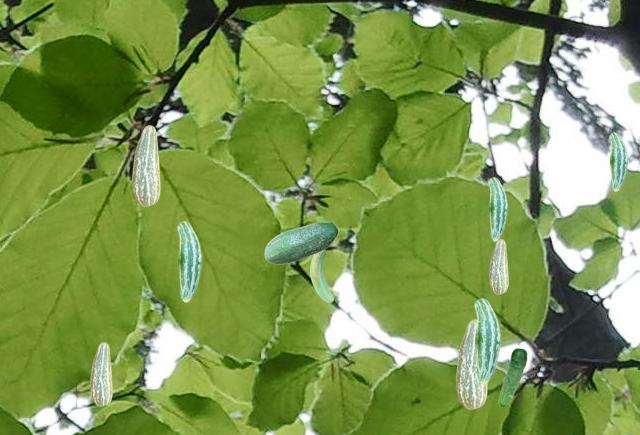cucumber: (264, 221, 338, 263), (456, 319, 486, 408), (132, 125, 159, 205), (474, 298, 499, 383), (177, 221, 200, 301), (498, 348, 526, 406), (90, 342, 111, 405), (488, 177, 506, 240), (310, 250, 332, 301), (609, 132, 626, 190), (489, 239, 507, 293)
